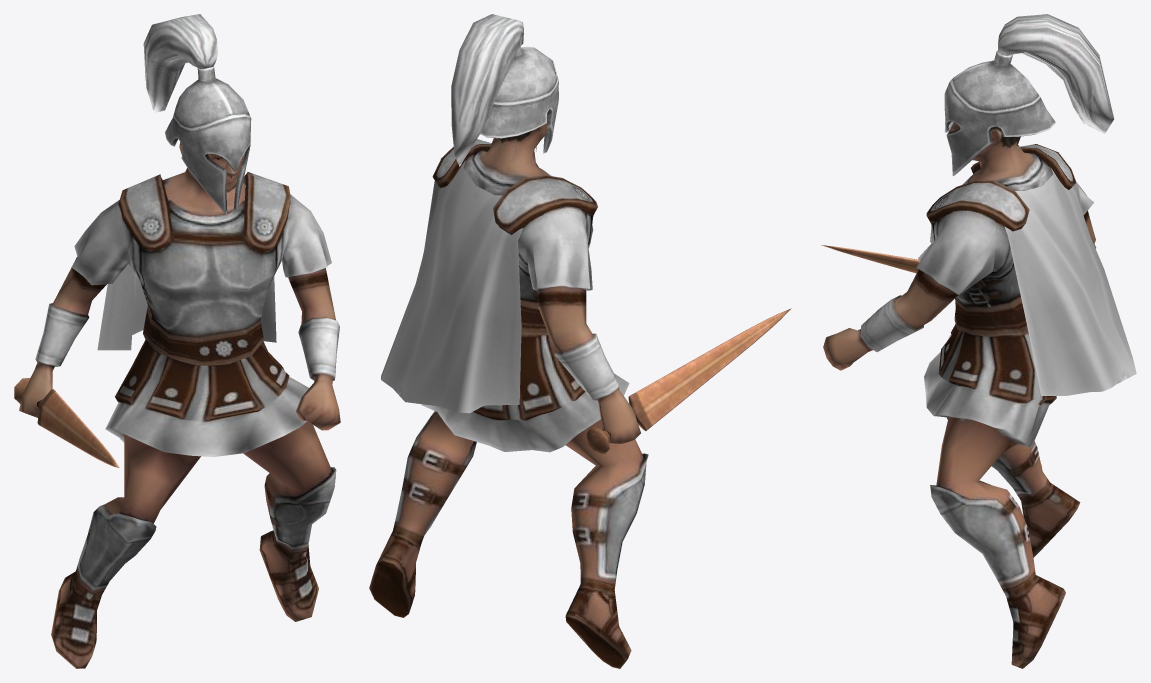
The model's file is rider-heavycavalry.glb.
3 renders of one model, left to right at view 1: azimuth 30°, elevation 25°; view 2: azimuth 150°, elevation 25°; view 3: azimuth 270°, elevation 25°, orthographic. The views are drawn at different scales.
Size of the model in its own units: 1.18 by 2.28 by 1.09.
3 materials, 3 textured.
